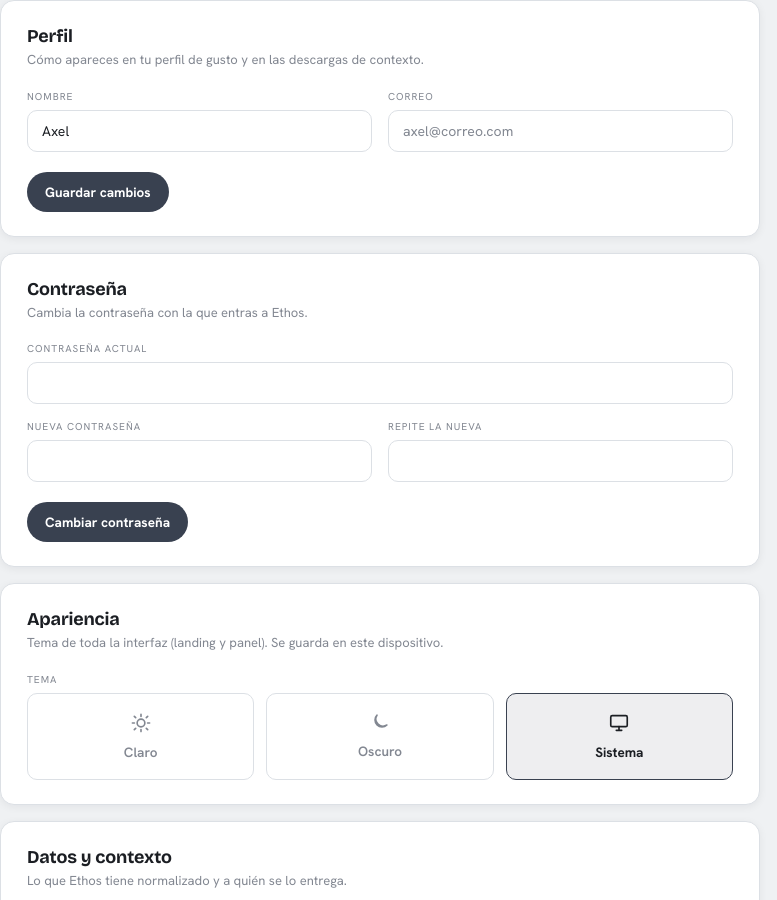
Test case: Settings › reautentica y cambia la contraseña
In the password field named "Contraseña actual": (380, 383) [27,362,733,404], type "clave-antigua"
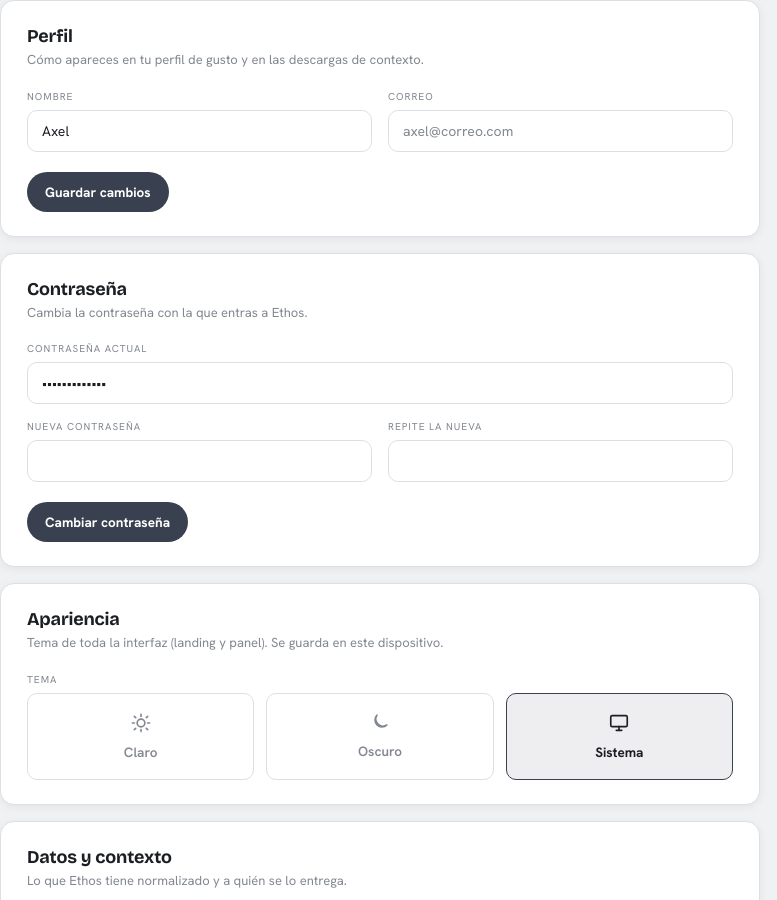
In the password field named "Nueva contraseña": (200, 461) [27,440,372,482], type "clave-nueva-123"
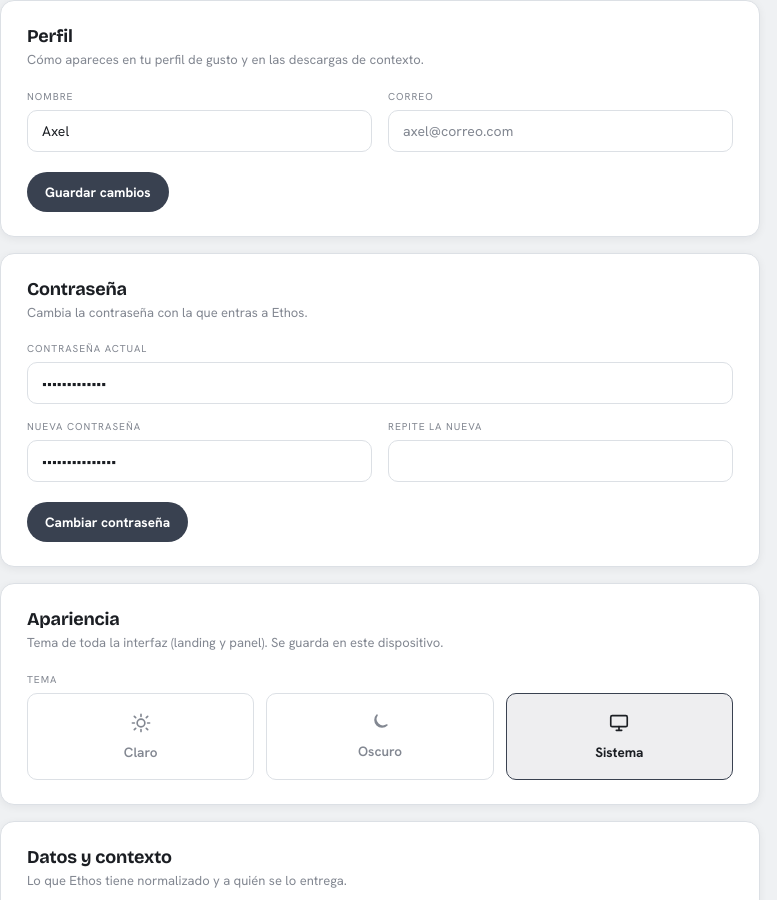
In the password field named "Repite la nueva contraseña": (560, 461) [388,440,733,482], type "clave-nueva-123"
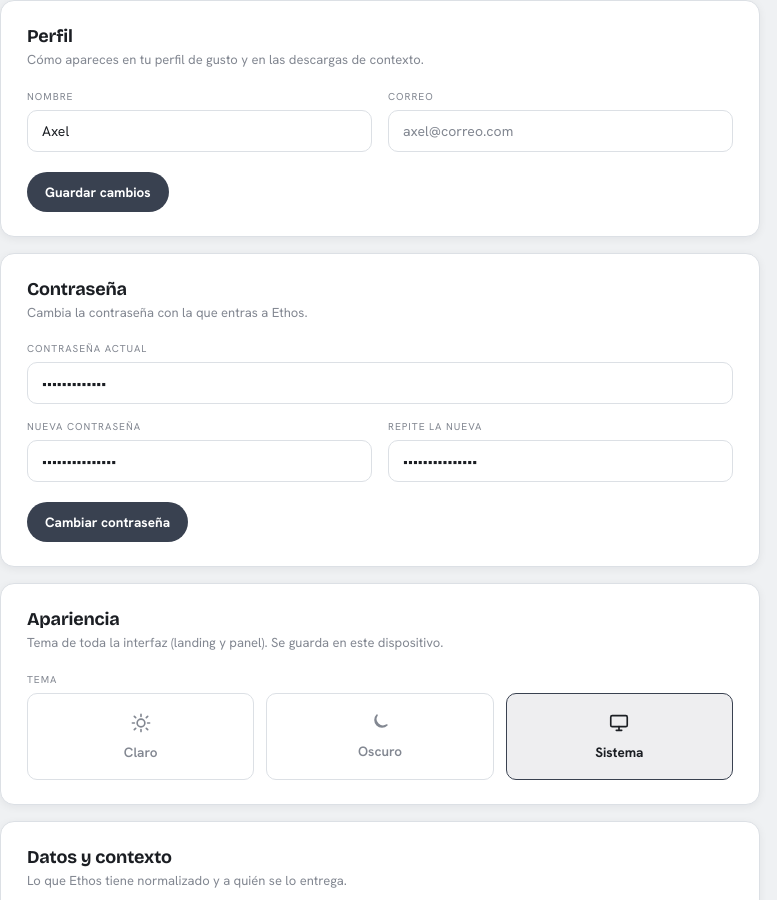
Click the button "Cambiar contraseña": (108, 522) [27,502,188,542]
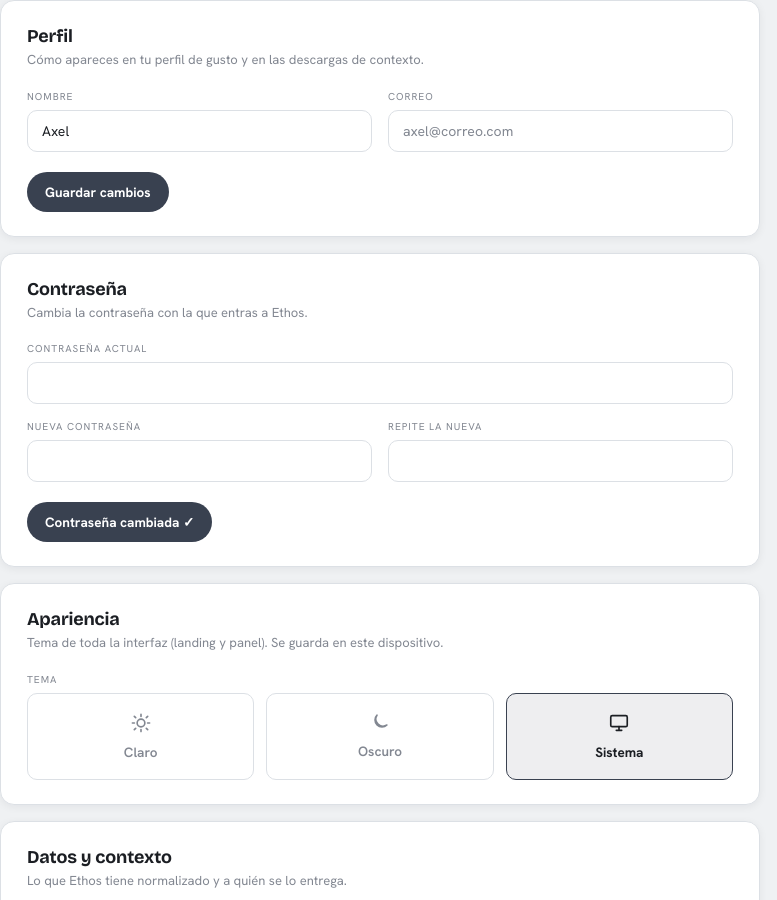
Check: the button "Contraseña cambiada ✓" is shown, box [27,502,212,542]
